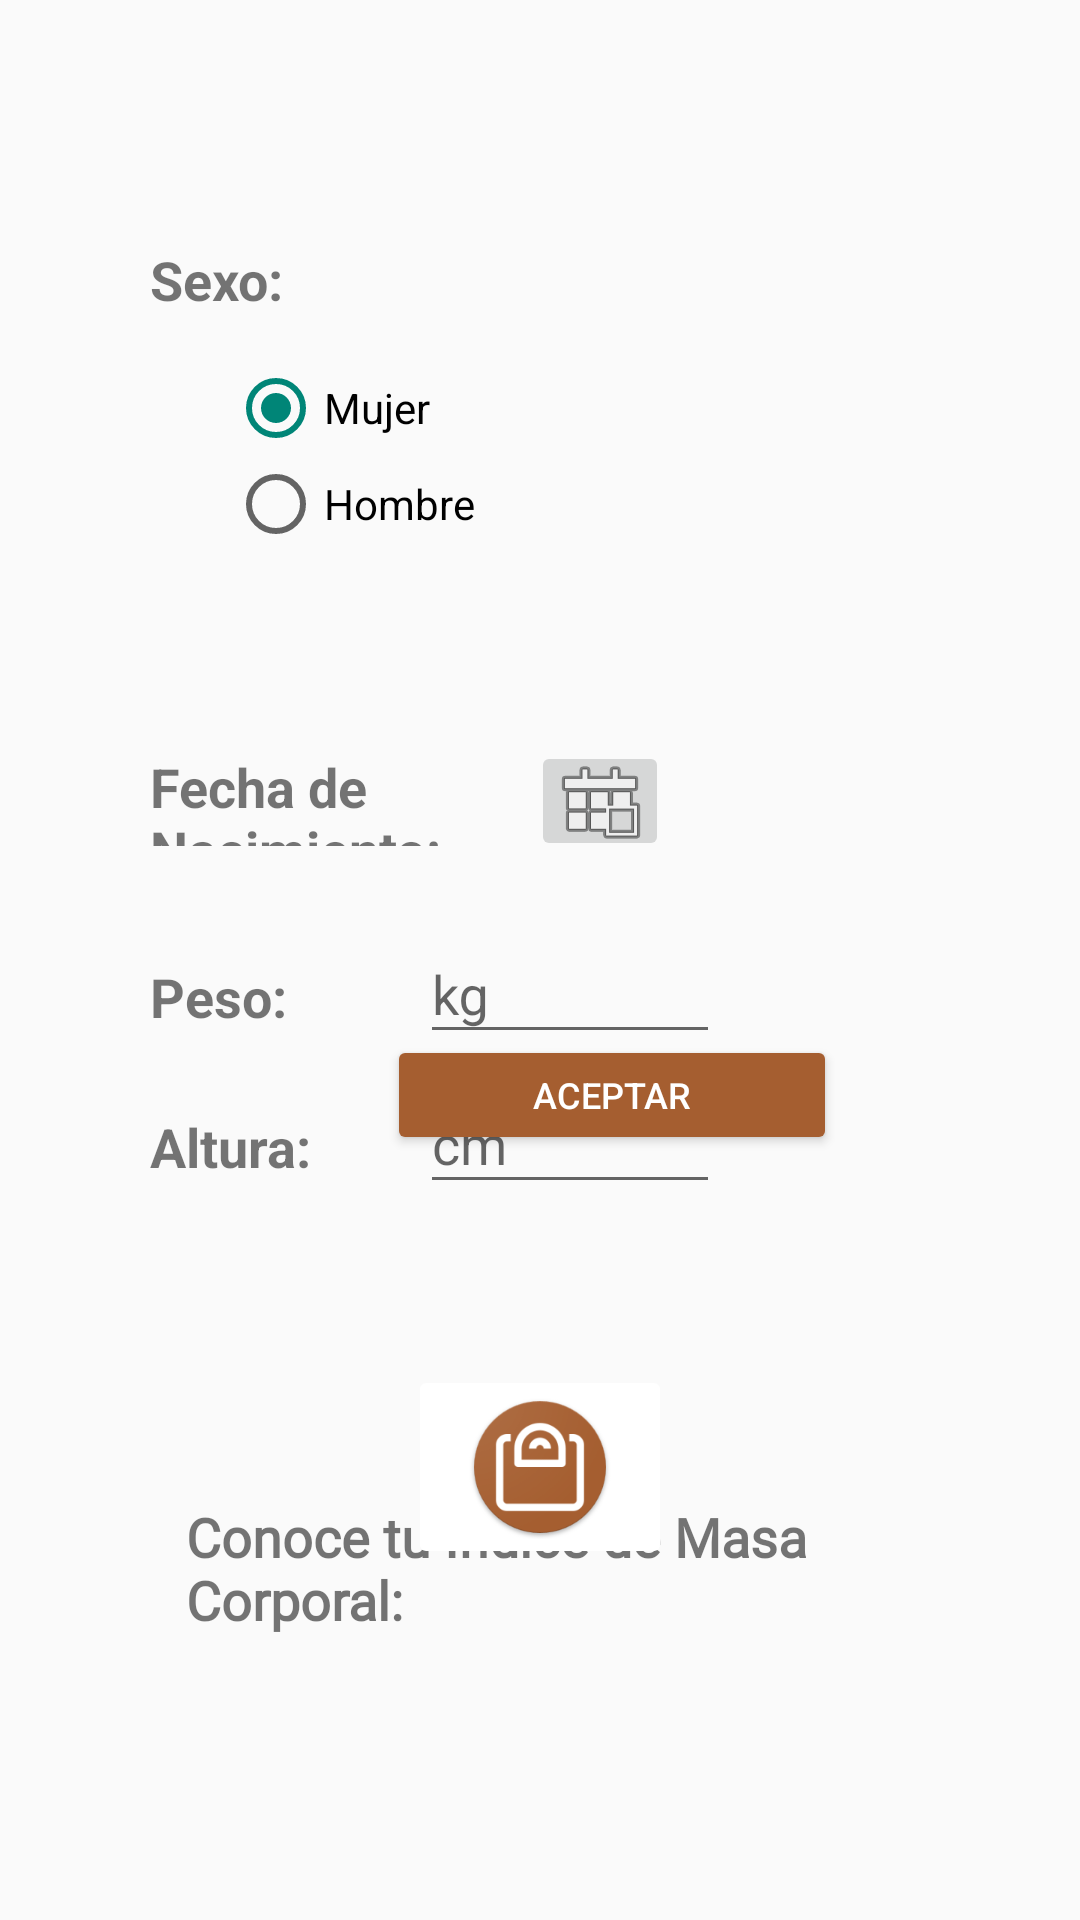

Screen size 1080x1920. Icon name, then its box in pixels as [left=x1, top=y1, right=x2, bottom=y2]:
today: [left=543, top=759, right=657, bottom=843]
